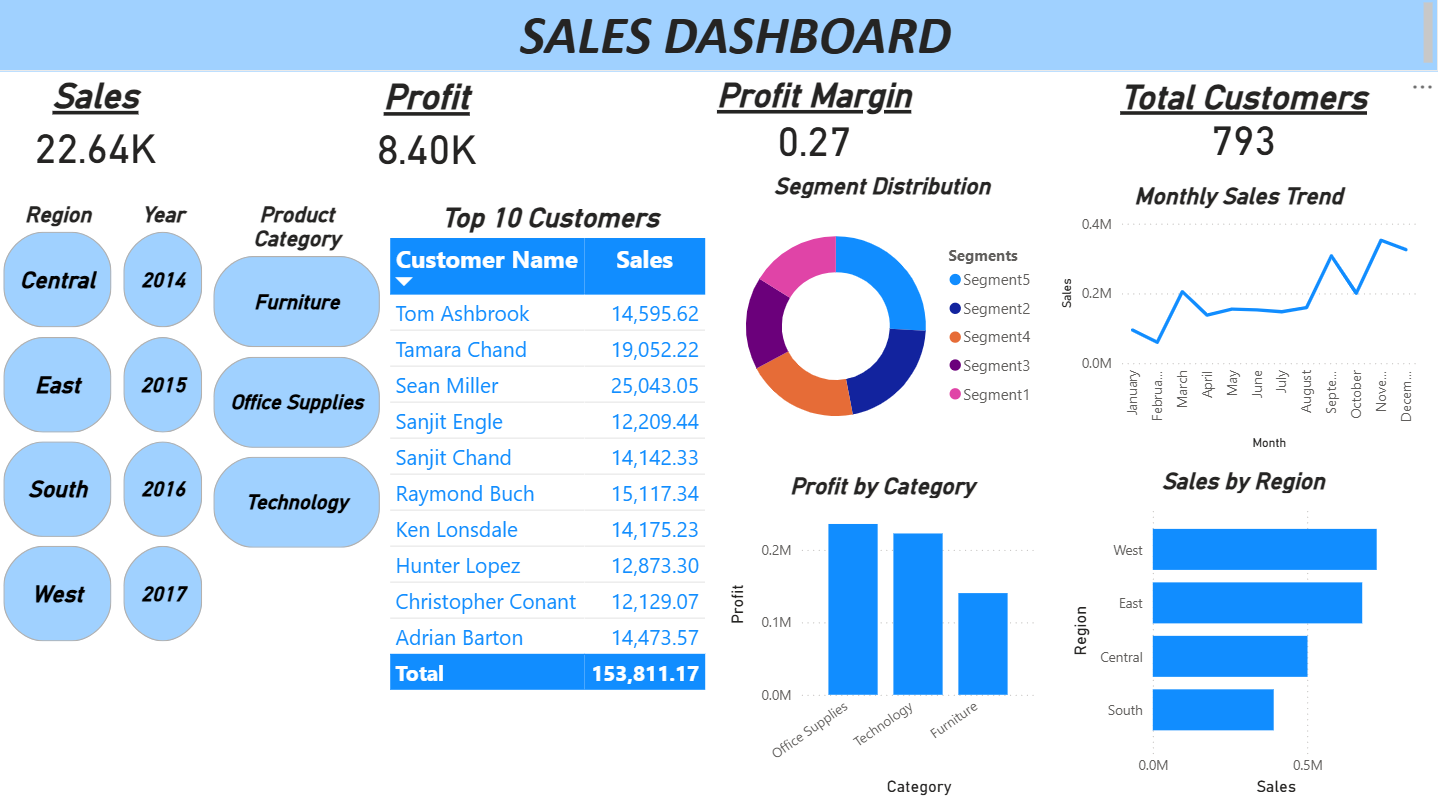

What the dashboard file says about the page in this screenshot:
{"tool":"powerbi","page":{"name":"Page 1","canvas":[1280,720],"ordinal":0},"visuals":[{"type":"barChart","fields":{"Category":["cleaned_sales_data.Region"],"Y":["Sum(cleaned_sales_data.Sales)"]},"box":[948.8,417.4,316.3,297.7],"z":0},{"type":"lineChart","title":"Monthly Sales Trend","fields":{"Category":["cleaned_sales_data.Order Date.Variation.Date Hierarchy.Month"],"Y":["Sum(cleaned_sales_data.Sales)"]},"box":[939.5,164,325.6,243],"z":1000},{"type":"donutChart","title":"Segment Distribution","fields":{"Y":["CountNonNull(Sheet1.Segmentation Group)"],"Category":["Sheet1.Segmentation Group"]},"box":[639.5,155.8,291.9,251.2],"z":2000},{"type":"tableEx","title":"Top 10 Customers","fields":{"Values":["cleaned_sales_data.Customer Name","Sum(cleaned_sales_data.Sales)"]},"box":[341.9,182.6,297.7,469.8],"z":3000},{"type":"kpi","title":"Sales","fields":{"Indicator":["Sum(cleaned_sales_data.Sales)"],"TrendLine":["cleaned_sales_data.Sales"]},"box":[0,69.8,173.3,94.2],"z":4000},{"type":"kpi","title":"Profit","fields":{"Indicator":["cleaned_sales_data.Total Profit"],"TrendLine":["cleaned_sales_data.Profit"]},"box":[294.2,70.9,173.3,94.2],"z":5000},{"type":"advancedSlicerVisual","fields":{"Values":["cleaned_sales_data.Region"]},"box":[0,182.6,107,396.5],"z":6000},{"type":"textbox","box":[0,0,1280,66],"z":7000},{"type":"clusteredColumnChart","fields":{"Category":["cleaned_orders_table. Product Category"],"Y":["Sum(cleaned_orders_table.Profit)"]},"box":[644.2,422.1,283.7,293],"z":8000},{"type":"kpi","title":"Total Customers ","fields":{"Indicator":["Count(Sheet1.Customer ID)"],"TrendLine":["cleaned_orders_table.Sales"]},"box":[969.8,70.9,274.4,77.9],"z":9000},{"type":"kpi","title":"Profit Margin","fields":{"Indicator":["cleaned_orders_table.Measure"],"TrendLine":["cleaned_orders_table. Product Category"]},"box":[615.1,69.8,219.8,81.4],"z":10000},{"type":"advancedSlicerVisual","fields":{"Values":["cleaned_orders_table.Order Date.Variation.Date Hierarchy.Year"]},"box":[107,182.6,80.2,396.5],"z":11000},{"type":"advancedSlicerVisual","fields":{"Values":["cleaned_orders_table. Product Category"]},"box":[187.2,182.6,158.1,312.8],"z":12000}]}

Visuals, with their boxes in screenshot pixels (x1, y1, x2, y2), scaled from the page's 1280x720 canvas onto the 1438x803 screenshot:
barChart - cleaned_sales_data.Region x Sum(cleaned_sales_data.Sales): {"left": 1066, "top": 466, "right": 1421, "bottom": 798}
"Monthly Sales Trend" lineChart: {"left": 1055, "top": 183, "right": 1421, "bottom": 454}
"Segment Distribution" donutChart: {"left": 718, "top": 174, "right": 1046, "bottom": 454}
"Top 10 Customers" tableEx: {"left": 384, "top": 204, "right": 719, "bottom": 728}
"Sales" kpi: {"left": 0, "top": 78, "right": 195, "bottom": 183}
"Profit" kpi: {"left": 331, "top": 79, "right": 525, "bottom": 184}
advancedSlicerVisual - cleaned_sales_data.Region: {"left": 0, "top": 204, "right": 120, "bottom": 646}
textbox: {"left": 0, "top": 0, "right": 1437, "bottom": 74}
clusteredColumnChart - cleaned_orders_table. Product Category x Sum(cleaned_orders_table.Profit): {"left": 724, "top": 471, "right": 1042, "bottom": 798}
"Total Customers " kpi: {"left": 1090, "top": 79, "right": 1398, "bottom": 166}
"Profit Margin" kpi: {"left": 691, "top": 78, "right": 938, "bottom": 169}
advancedSlicerVisual - cleaned_orders_table.Order Date.Variation.Date Hierarchy.Year: {"left": 120, "top": 204, "right": 210, "bottom": 646}
advancedSlicerVisual - cleaned_orders_table. Product Category: {"left": 210, "top": 204, "right": 388, "bottom": 553}
